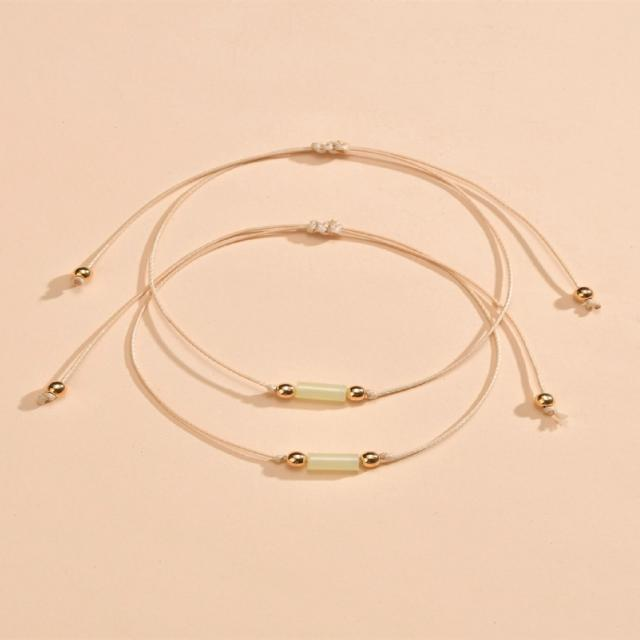bracelet: (11, 104, 640, 540)
